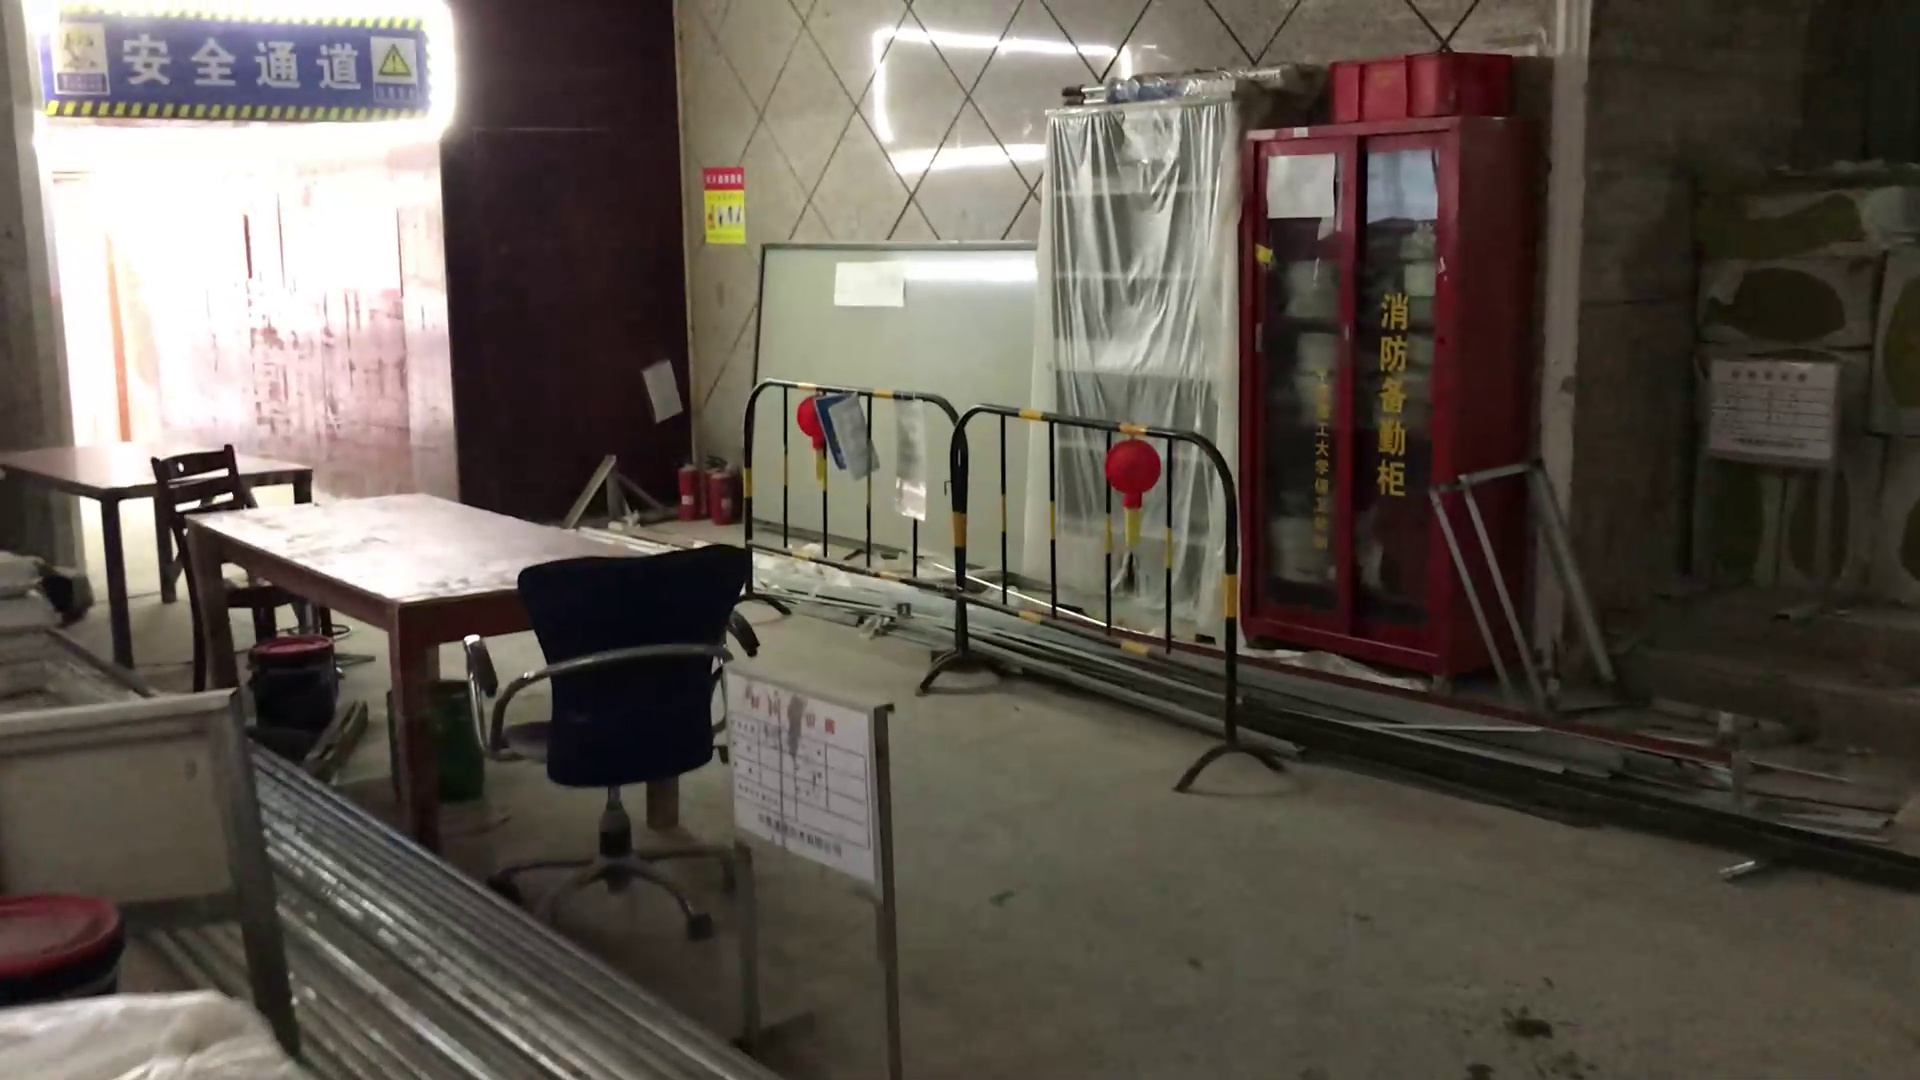fence: (727, 363, 1280, 785)
slogan: (45, 8, 450, 137), (692, 162, 761, 261)
